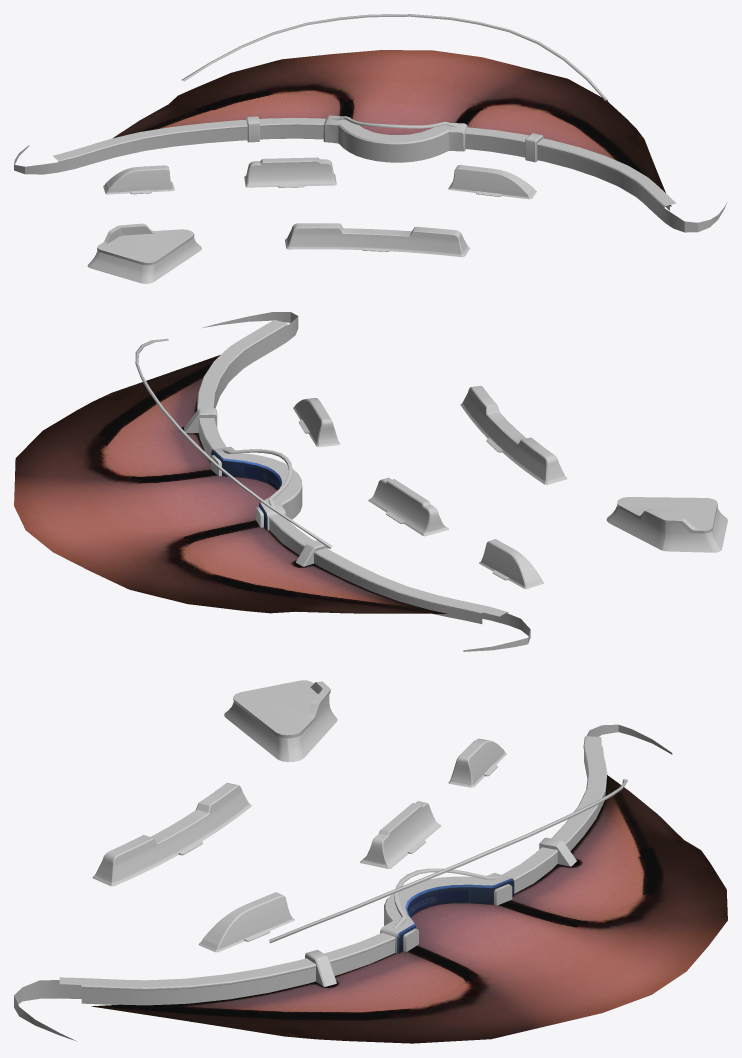
Rendered from pref_sm_beach_bk_downblock_L02_lv2.fbx.
3 views of the same model, one above another, from view 1: azimuth 30°, elevation 25°; view 2: azimuth 150°, elevation 25°; view 3: azimuth 270°, elevation 25° (orthographic). The views are drawn at different scales.
Visible parts, largest first — view 1: sm_beach_bk_downblock_L02e_lv2, sm_beach_bk_downblock_L02a_lv2, sm_beach_bk_downblock_L02c_lv2, sm_beach_bk_downblock_L02b_lv2; view 2: sm_beach_bk_downblock_L02e_lv2, sm_beach_bk_downblock_L02a_lv2, sm_beach_bk_downblock_L02c_lv2, sm_beach_bk_downblock_L02b_lv2, sm_beach_bk_downblock_L02d_lv2; view 3: sm_beach_bk_downblock_L02e_lv2, sm_beach_bk_downblock_L02a_lv2, sm_beach_bk_downblock_L02c_lv2, sm_beach_bk_downblock_L02b_lv2, sm_beach_bk_downblock_L02d_lv2.
Part boxes in pixels (<box>): sm_beach_bk_downblock_L02e_lv2: <box>113,50,671,206</box>; sm_beach_bk_downblock_L02a_lv2: <box>87,157,536,283</box>; sm_beach_bk_downblock_L02c_lv2: <box>14,118,727,232</box>; sm_beach_bk_downblock_L02b_lv2: <box>181,14,607,162</box>; sm_beach_bk_downblock_L02e_lv2: <box>14,354,447,613</box>; sm_beach_bk_downblock_L02a_lv2: <box>293,386,727,588</box>; sm_beach_bk_downblock_L02c_lv2: <box>197,312,530,651</box>; sm_beach_bk_downblock_L02b_lv2: <box>135,338,332,566</box>; sm_beach_bk_downblock_L02d_lv2: <box>211,449,281,530</box>; sm_beach_bk_downblock_L02e_lv2: <box>91,775,727,1043</box>; sm_beach_bk_downblock_L02a_lv2: <box>92,680,506,952</box>; sm_beach_bk_downblock_L02c_lv2: <box>14,724,672,1041</box>; sm_beach_bk_downblock_L02b_lv2: <box>269,779,627,986</box>; sm_beach_bk_downblock_L02d_lv2: <box>397,878,514,953</box>.
Bounding box in the file's own units: 50.14 × 8.28 × 43.43.
